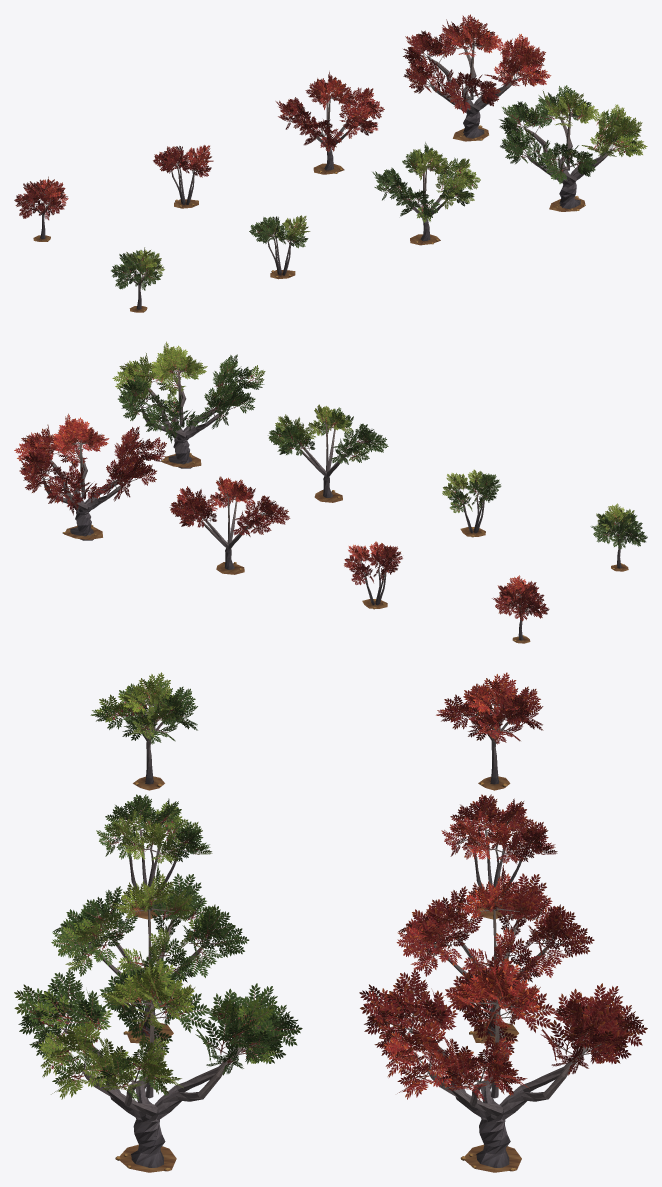
The model's file is terebintos.glb.
3 views of the same model, one above another, from view 1: azimuth 30°, elevation 25°; view 2: azimuth 150°, elevation 25°; view 3: azimuth 270°, elevation 25° (orthographic). The views are drawn at different scales.
Visible parts, largest first — view 1: Terebinto4_Anciao_Verao, Terebinto4_Anciao_Outono, Terebinto3_CopaLarga_Outono, Terebinto3_CopaLarga_Verao, Terebinto2_Multicaule_Verao, Terebinto2_Multicaule_Outono, Terebinto1_Jovem_Verao, Terebinto1_Jovem_Outono; view 2: Terebinto4_Anciao_Outono, Terebinto4_Anciao_Verao, Terebinto3_CopaLarga_Verao, Terebinto3_CopaLarga_Outono, Terebinto2_Multicaule_Verao, Terebinto2_Multicaule_Outono, Terebinto1_Jovem_Verao, Terebinto1_Jovem_Outono; view 3: Terebinto4_Anciao_Verao, Terebinto4_Anciao_Outono, Terebinto3_CopaLarga_Verao, Terebinto3_CopaLarga_Outono, Terebinto2_Multicaule_Verao, Terebinto2_Multicaule_Outono, Terebinto1_Jovem_Outono, Terebinto1_Jovem_Verao.
Boxes of the visible parts, <box> form: Terebinto4_Anciao_Verao: <box>499,85,647,211</box>; Terebinto4_Anciao_Outono: <box>403,14,551,141</box>; Terebinto3_CopaLarga_Outono: <box>275,71,384,174</box>; Terebinto3_CopaLarga_Verao: <box>372,142,480,245</box>; Terebinto2_Multicaule_Verao: <box>249,215,310,279</box>; Terebinto2_Multicaule_Outono: <box>153,145,213,208</box>; Terebinto1_Jovem_Verao: <box>111,247,164,312</box>; Terebinto1_Jovem_Outono: <box>14,176,68,241</box>; Terebinto4_Anciao_Outono: <box>14,413,166,540</box>; Terebinto4_Anciao_Verao: <box>112,341,265,468</box>; Terebinto3_CopaLarga_Verao: <box>268,404,388,502</box>; Terebinto3_CopaLarga_Outono: <box>169,476,290,574</box>; Terebinto2_Multicaule_Verao: <box>442,469,501,537</box>; Terebinto2_Multicaule_Outono: <box>344,541,402,609</box>; Terebinto1_Jovem_Verao: <box>590,503,647,571</box>; Terebinto1_Jovem_Outono: <box>492,575,549,643</box>; Terebinto4_Anciao_Verao: <box>14,956,302,1172</box>; Terebinto4_Anciao_Outono: <box>359,956,647,1172</box>; Terebinto3_CopaLarga_Verao: <box>51,863,249,1043</box>; Terebinto3_CopaLarga_Outono: <box>396,865,594,1043</box>; Terebinto2_Multicaule_Verao: <box>96,794,212,919</box>; Terebinto2_Multicaule_Outono: <box>441,794,557,919</box>; Terebinto1_Jovem_Outono: <box>436,672,543,790</box>; Terebinto1_Jovem_Verao: <box>90,672,197,790</box>.
Bounding box in the file's own units: 43.39 × 9.09 × 25.71.
2 materials, 2 textured.
